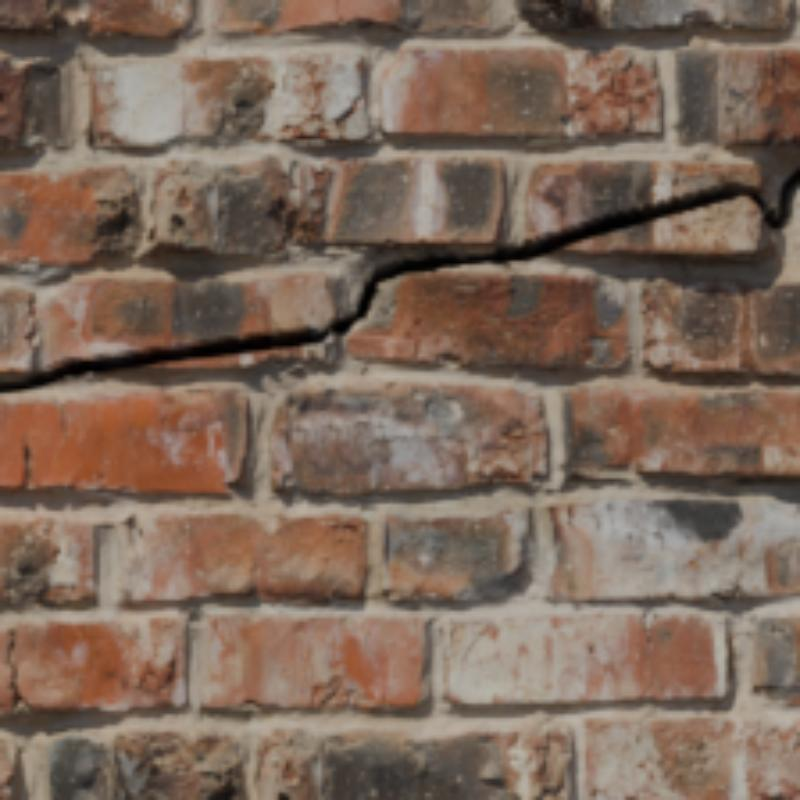crack: (1, 167, 797, 392)
